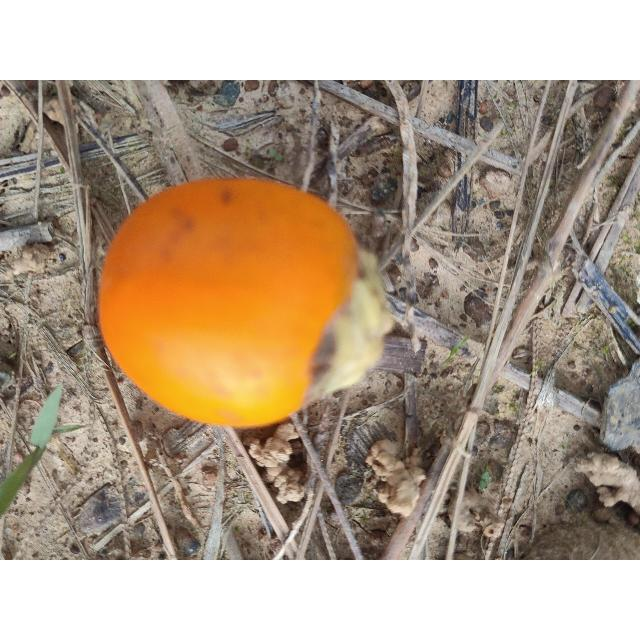good: (97, 177, 390, 430), (0, 368, 12, 400)
